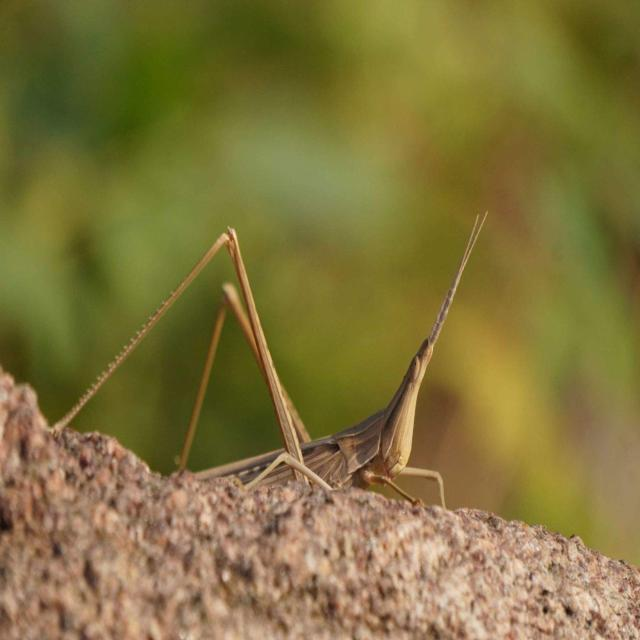ZhaMeng: (84, 206, 513, 488)
